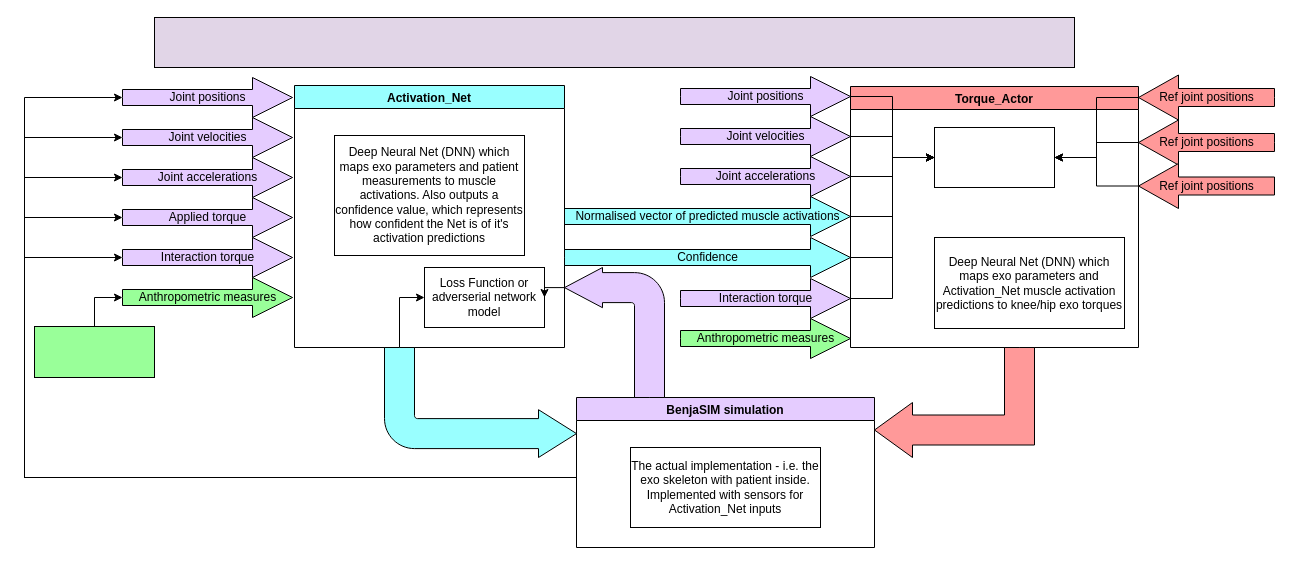
This 1292x565 diagram has some shape labels left out. The shapes that lost their labels are listed below. From the top down, each one's centre as x and y in pixels, then its label:
At point (614, 42): "Training".
At point (994, 157): "Reward function".
At point (94, 352): "Physiotherapist (configured at beginning of session)".
At point (614, 332): "Actual muscle activations".
At point (480, 402): "predicted muscle activations".
At point (954, 402): "Joint Torques".
